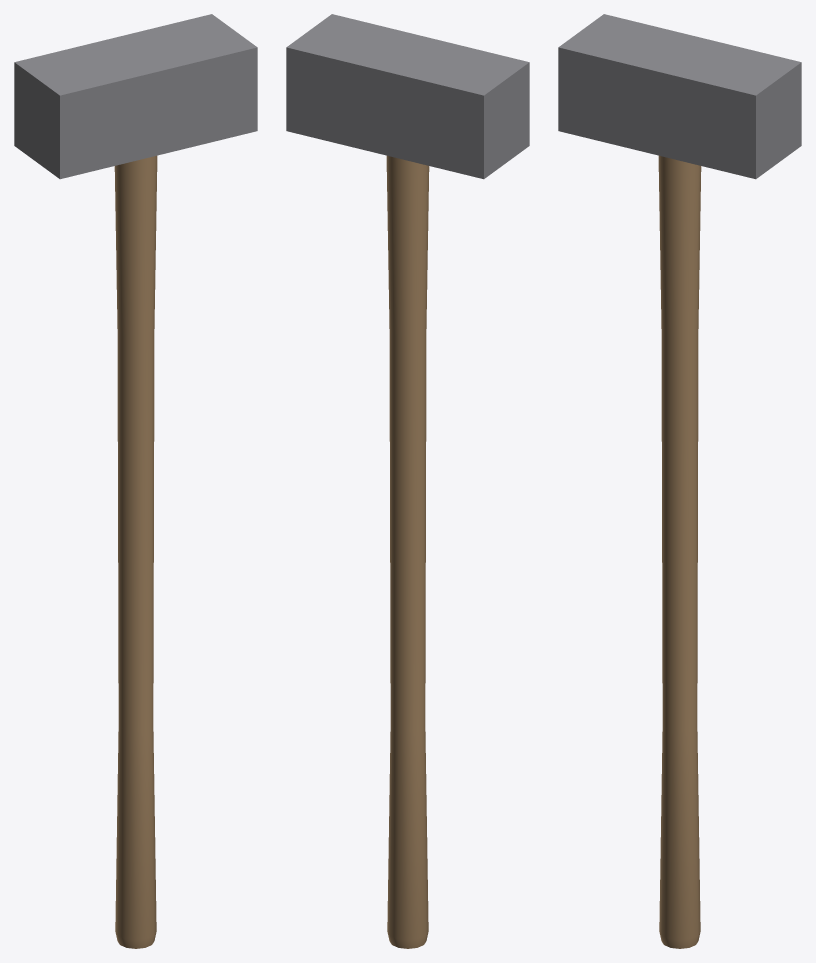
Rendered from sledgehammer.glb.
The picture shows the model from 3 angles, left to right: view 1: azimuth 30°, elevation 25°; view 2: azimuth 150°, elevation 25°; view 3: azimuth 330°, elevation 25°; orthographic projection.
Visible parts, largest first — view 1: OUT; view 2: OUT; view 3: OUT.
Boxes of the visible parts, bbox=[...] form: OUT: bbox=[14, 14, 257, 948]; OUT: bbox=[286, 14, 529, 948]; OUT: bbox=[558, 14, 801, 948].
Size of the model in its own units: 0.21 by 0.9 by 0.084.
